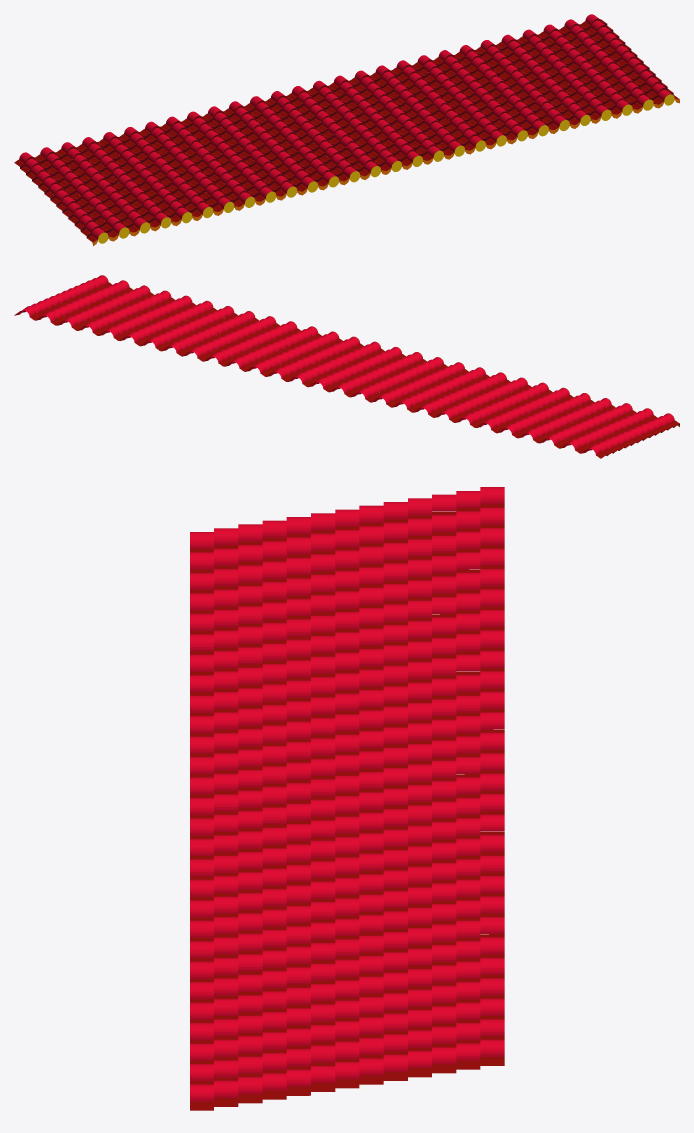
Rendered from Roof.fbx.
3 renders of one model, top to bottom at view 1: azimuth 30°, elevation 25°; view 2: azimuth 150°, elevation 25°; view 3: azimuth 270°, elevation 25°, orthographic. The views are drawn at different scales.
Parts seen in each view (by area): view 1: Roofs; view 2: Roofs; view 3: Roofs.
Boxes of the visible parts, left/top/right/bottom form: Roofs: left=14, top=14, right=679, bottom=246; Roofs: left=14, top=275, right=679, bottom=458; Roofs: left=190, top=487, right=504, bottom=1110.
Bounding box in the file's own units: 2240 × 123 × 521.
